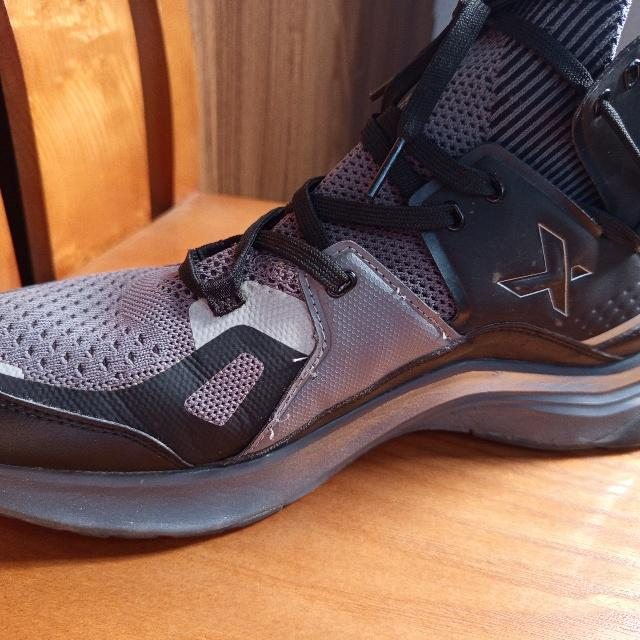broken-error: (263, 411, 292, 440), (391, 281, 409, 306)
